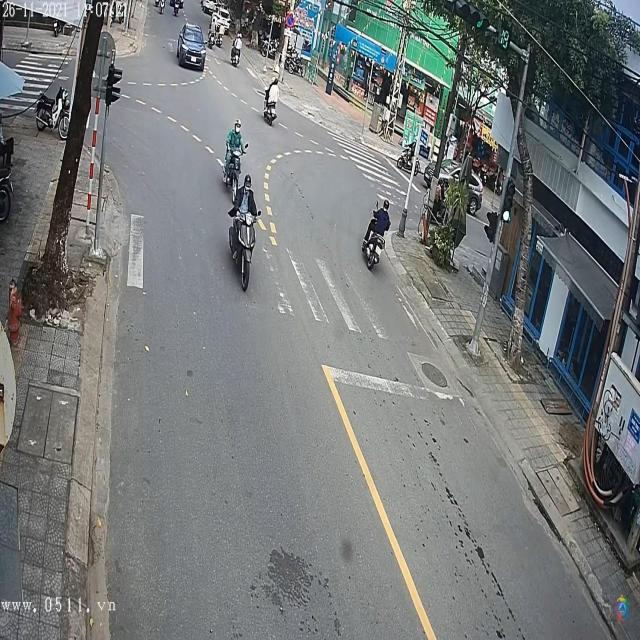car: (175, 21, 207, 71)
motorcycle: (228, 209, 262, 295), (362, 233, 384, 268), (223, 154, 242, 188)
